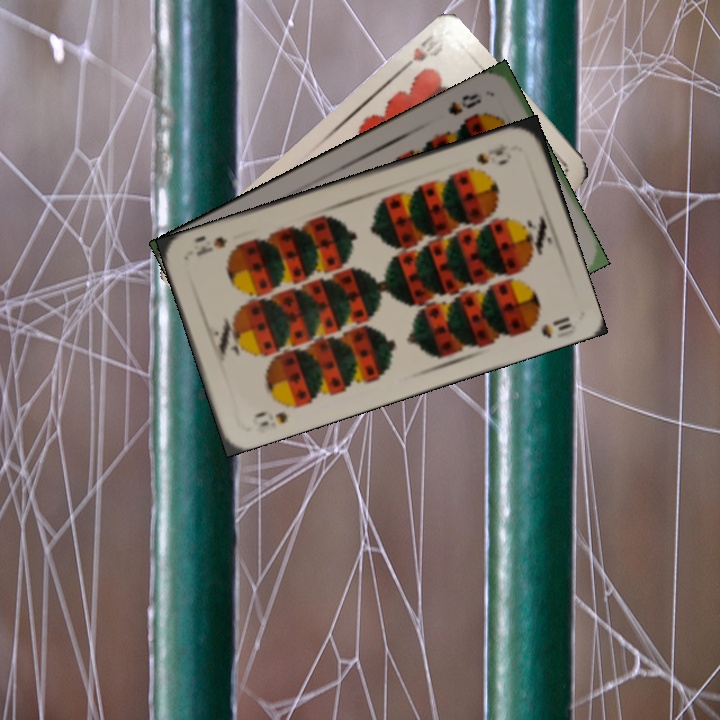H10: (395, 36, 447, 75)
S10: (472, 138, 510, 167), (250, 406, 291, 429)
S8: (444, 89, 484, 118)
